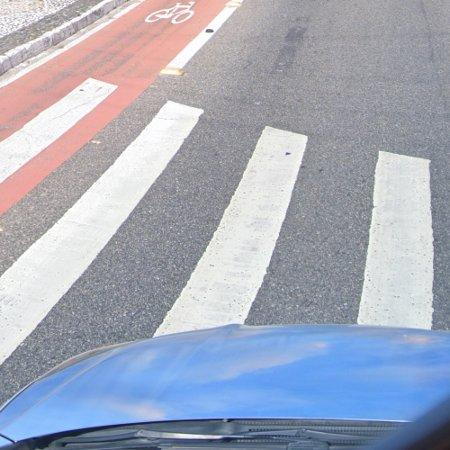crosswalks: (0, 74, 445, 376)
